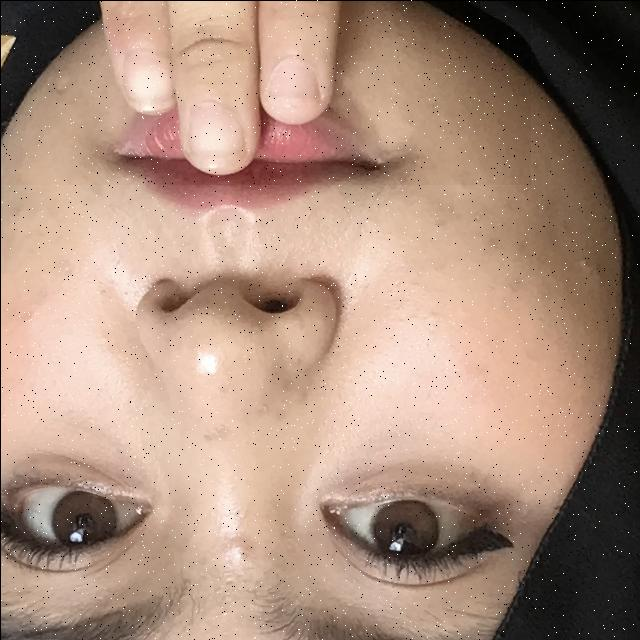ganteng: (0, 0, 530, 184)
